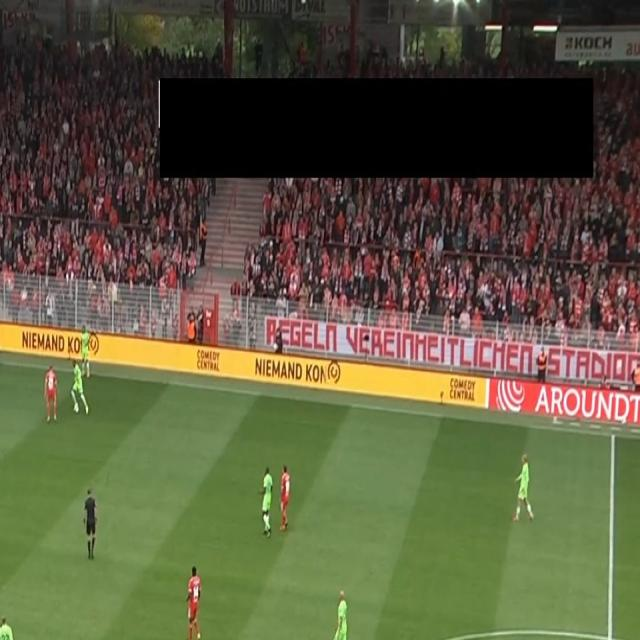ball: (72, 403, 80, 416)
